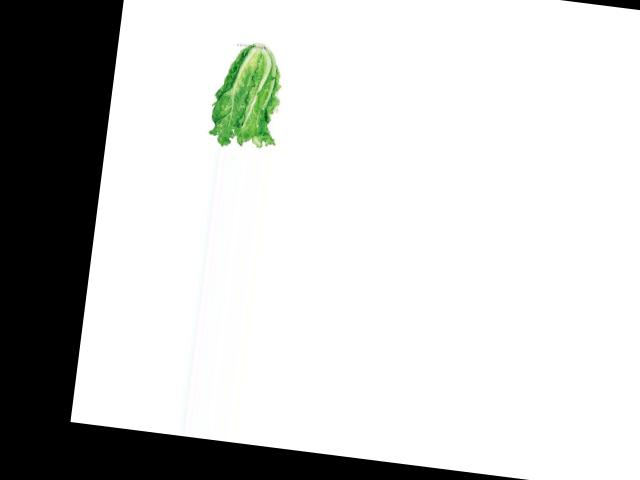lettuce: (207, 41, 289, 153)
